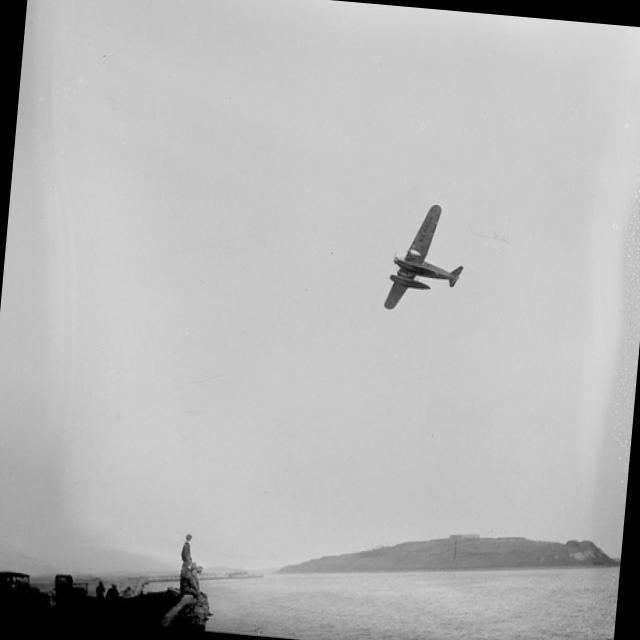Vehicle: (54, 574, 89, 597)
